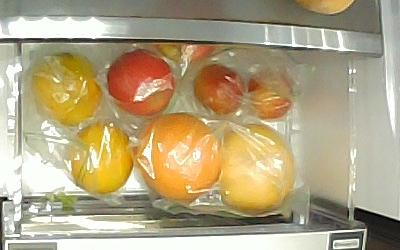apple_vinyl: (107, 49, 176, 117)
grapefruit_vinyl: (134, 112, 221, 204), (219, 123, 296, 217)
persimmon_vinyl: (32, 53, 101, 126), (70, 123, 134, 195)
prune_vinyl: (192, 65, 244, 116), (247, 70, 293, 120)
